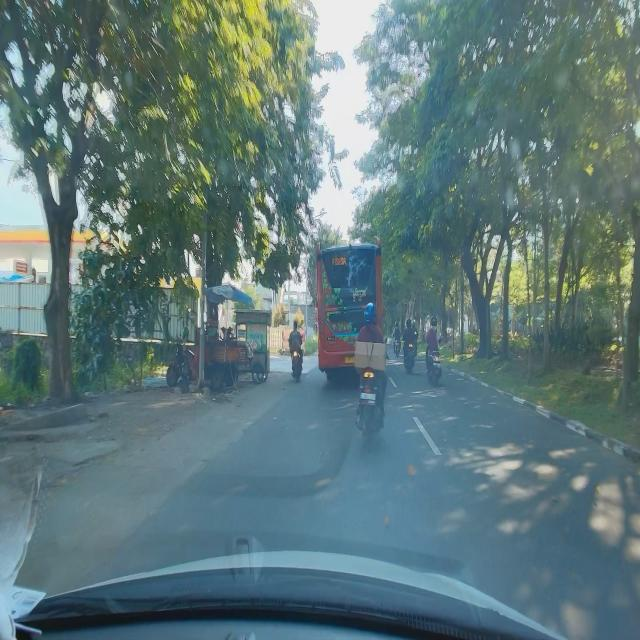bus: (315, 238, 384, 379)
